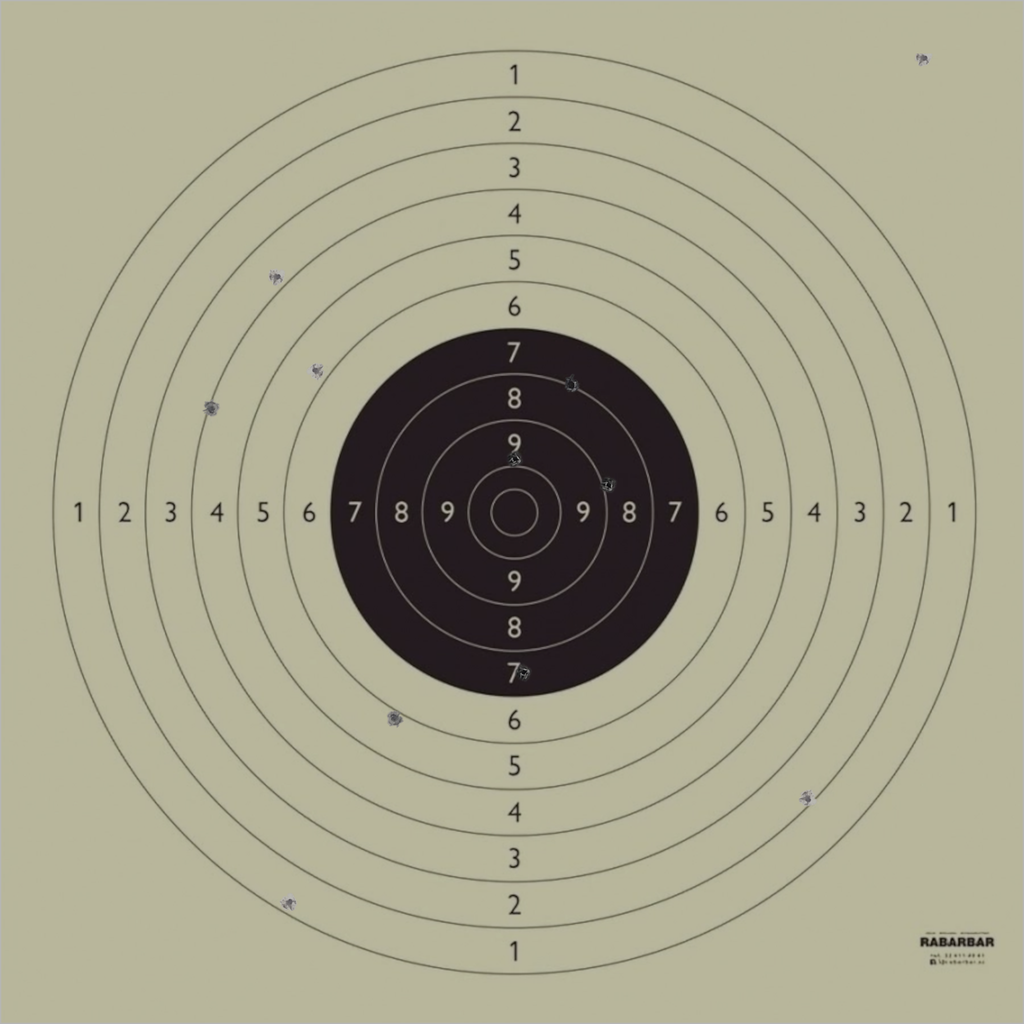0 punktow: (914, 49, 933, 67)
1 punkt: (280, 893, 299, 912)
10 punktow: (506, 450, 525, 469)
2 punkty: (798, 790, 817, 808)
3 punkty: (268, 268, 286, 286)
4 punkty: (202, 400, 220, 418)
5 punktow: (307, 361, 325, 380)
6 punktow: (385, 709, 404, 727)
7 punktow: (515, 663, 533, 681)
8 punktow: (562, 375, 581, 394)
9 punktow: (600, 476, 618, 495)
